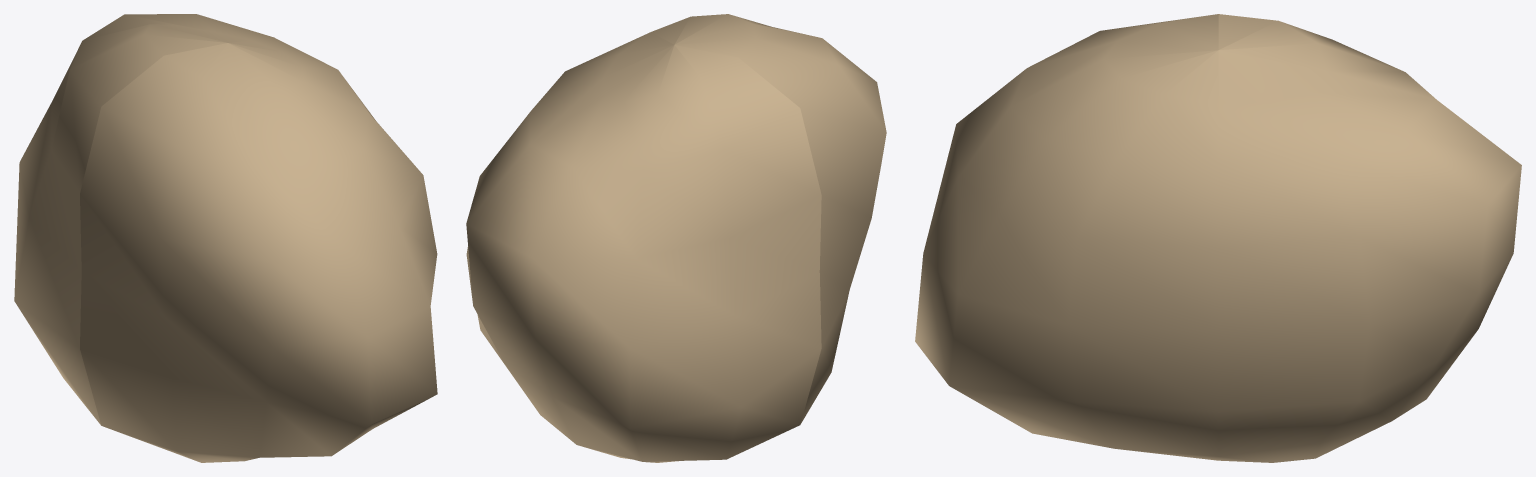
Rendered from right_lateral_cuneiform.glb.
3 views of the same model, side by side, from view 1: azimuth 30°, elevation 25°; view 2: azimuth 150°, elevation 25°; view 3: azimuth 270°, elevation 25° (orthographic). The views are drawn at different scales.
Visible parts, largest first — view 1: right_lateral_cuneiform:body; view 2: right_lateral_cuneiform:body; view 3: right_lateral_cuneiform:body.
Part boxes in pixels (x1,y1,x2,y2): right_lateral_cuneiform:body: [14, 14, 437, 462]; right_lateral_cuneiform:body: [466, 14, 886, 462]; right_lateral_cuneiform:body: [915, 14, 1521, 462].
Bounding box in the file's own units: 0.0516 × 0.0645 × 0.086.
